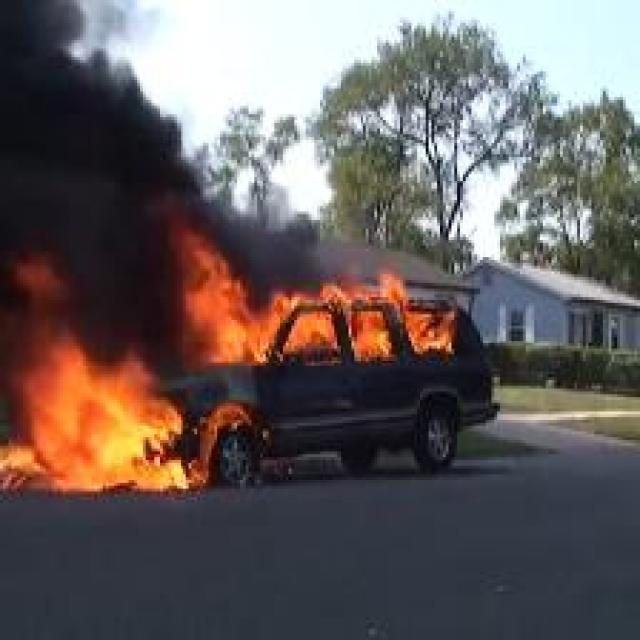Fire: (0, 254, 254, 488), (168, 222, 458, 368)
